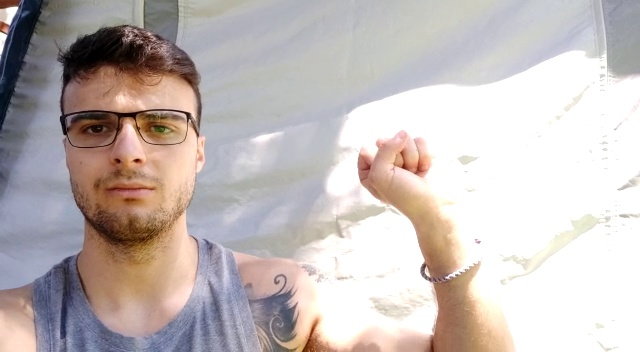Fist: (340, 125, 475, 222)
